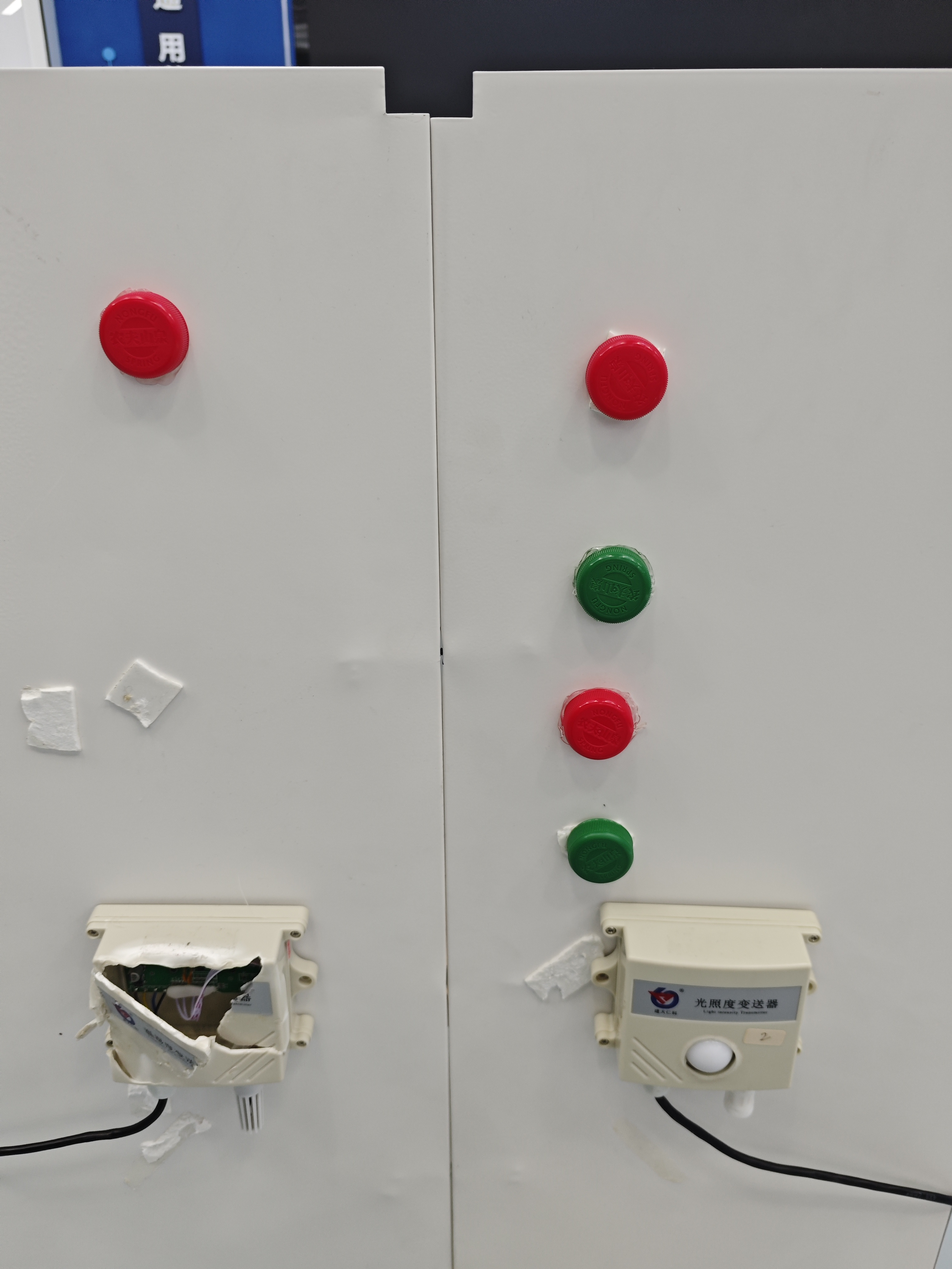red_warning: (569, 313, 720, 452), (87, 271, 242, 404), (545, 670, 672, 763)
sensor_damage: (58, 886, 385, 1197)
